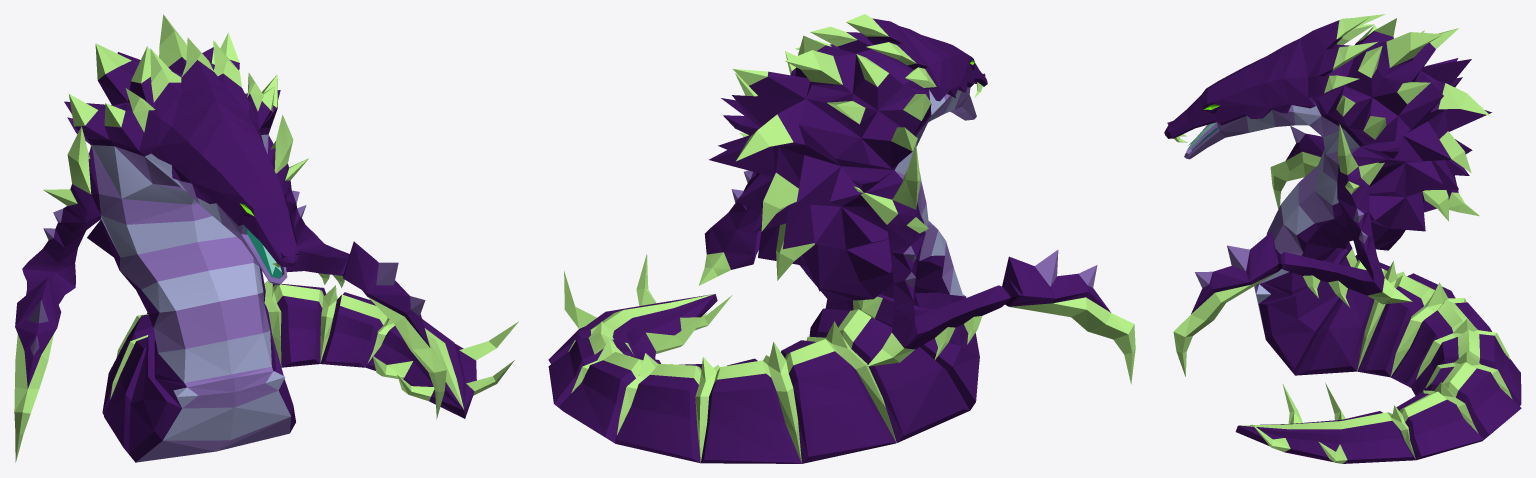
Rendered from Idle (44).obj.
3 renders of one model, left to right at view 1: azimuth 30°, elevation 25°; view 2: azimuth 150°, elevation 25°; view 3: azimuth 270°, elevation 25°, orthographic. The views are drawn at different scales.
Parts seen in each view (by area): view 1: Alien_Serpent; view 2: Alien_Serpent; view 3: Alien_Serpent.
Boxes of the visible parts, box(x1,y1,x2,y2) form: Alien_Serpent: box(14, 14, 518, 462); Alien_Serpent: box(548, 14, 1135, 463); Alien_Serpent: box(1164, 14, 1521, 463).
Bounding box in the file's own units: 298 × 207 × 199.
Materials: 1 (1 with a texture image).
